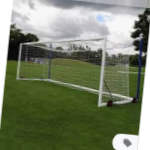goals: (14, 35, 135, 110)
